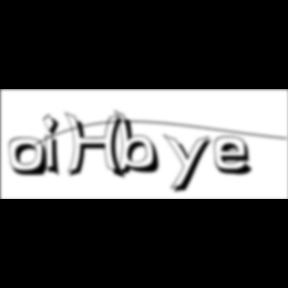H: (64, 112, 130, 182)
b: (114, 109, 166, 179)
e: (214, 135, 260, 178)
i: (43, 112, 67, 180)
o: (9, 137, 51, 179)
y: (164, 132, 218, 196)
